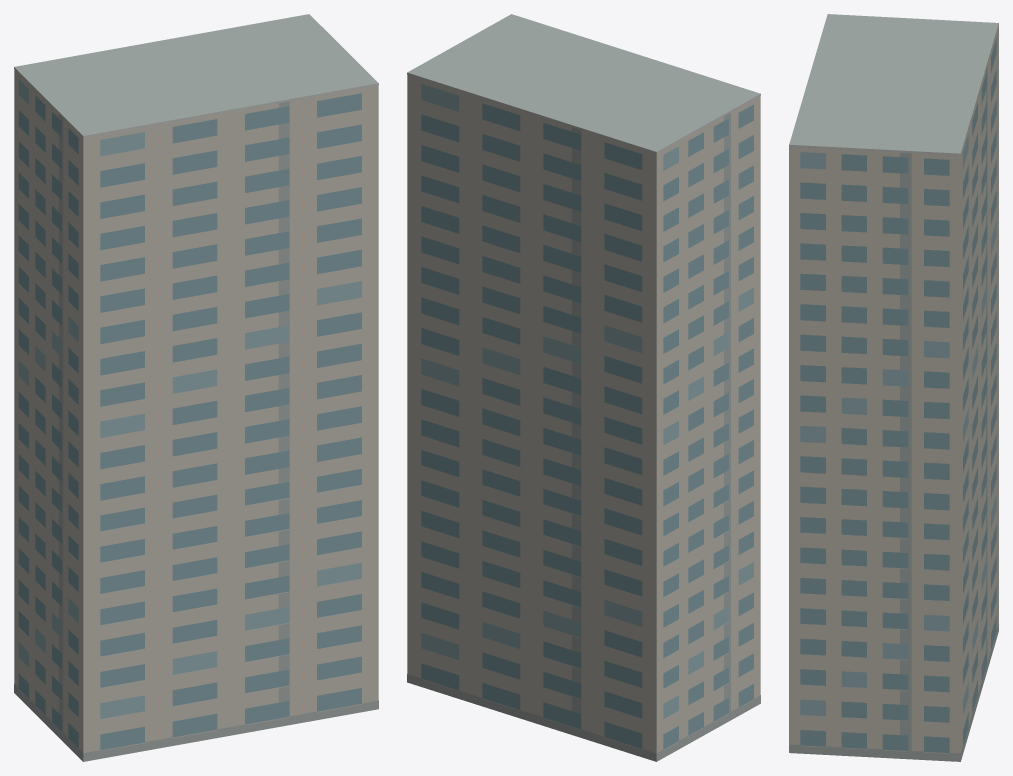
Rendered from residential-3bbb26c9-d81b-4bb8-8a81-2c69f8d5f025.glb.
The picture shows the model from 3 angles, left to right: view 1: azimuth 30°, elevation 25°; view 2: azimuth 150°, elevation 25°; view 3: azimuth 270°, elevation 25°; orthographic projection. The views are drawn at different scales.
Parts seen in each view (by area): view 1: residential-3bbb26c9-d81b-4bb8-8a81-2c69f8d5f025.tmp; view 2: residential-3bbb26c9-d81b-4bb8-8a81-2c69f8d5f025.tmp; view 3: residential-3bbb26c9-d81b-4bb8-8a81-2c69f8d5f025.tmp.
Boxes of the visible parts, box(x1,y1,x2,y2) form: residential-3bbb26c9-d81b-4bb8-8a81-2c69f8d5f025.tmp: box(14, 14, 378, 761); residential-3bbb26c9-d81b-4bb8-8a81-2c69f8d5f025.tmp: box(407, 14, 760, 761); residential-3bbb26c9-d81b-4bb8-8a81-2c69f8d5f025.tmp: box(789, 14, 998, 761).
Bounding box in the file's own units: 34.47 × 70 × 21.89.
